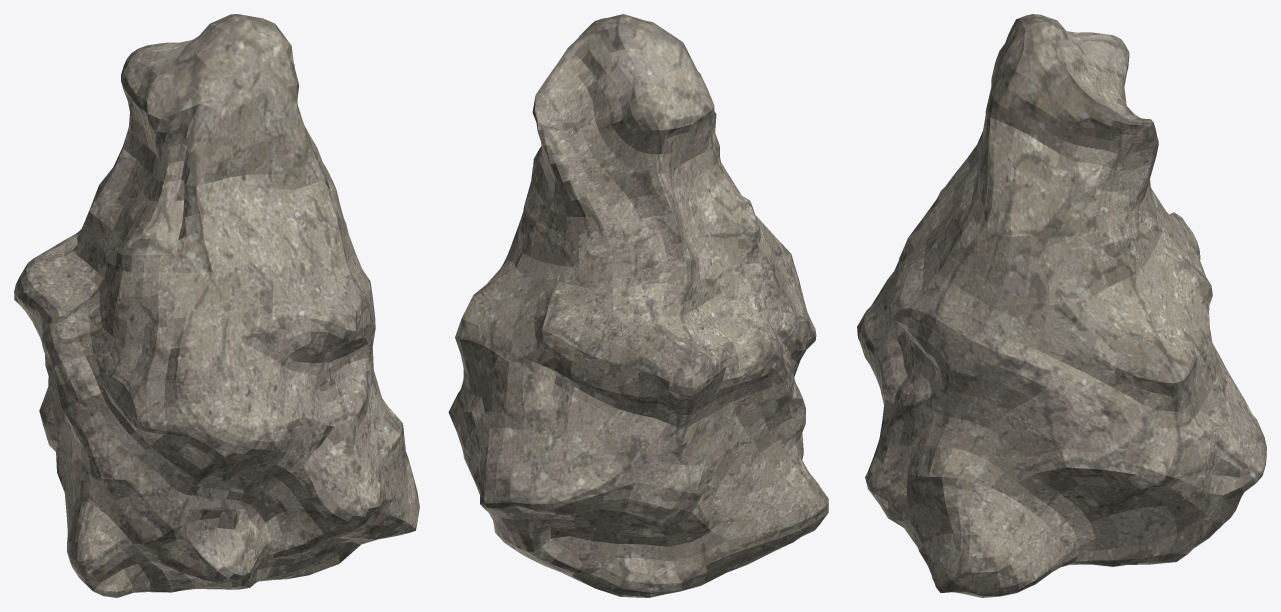
The model's file is rock_4.fbx.
The picture shows the model from 3 angles, left to right: view 1: azimuth 30°, elevation 25°; view 2: azimuth 150°, elevation 25°; view 3: azimuth 270°, elevation 25°; orthographic projection. The views are drawn at different scales.
Visible parts, largest first — view 1: Rock_4_remeshed_uv_low1:Group17328; view 2: Rock_4_remeshed_uv_low1:Group17328; view 3: Rock_4_remeshed_uv_low1:Group17328.
Part boxes in pixels (<box>): Rock_4_remeshed_uv_low1:Group17328: <box>14,14,419,597</box>; Rock_4_remeshed_uv_low1:Group17328: <box>448,14,828,597</box>; Rock_4_remeshed_uv_low1:Group17328: <box>857,14,1266,597</box>.
Size of the model in its own units: 4.8 by 7.66 by 5.15.
1 material, 1 textured.
